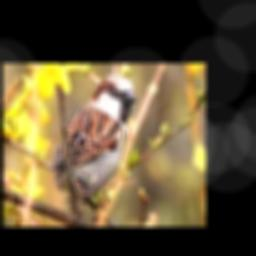Sparrow: (53, 74, 138, 209)
